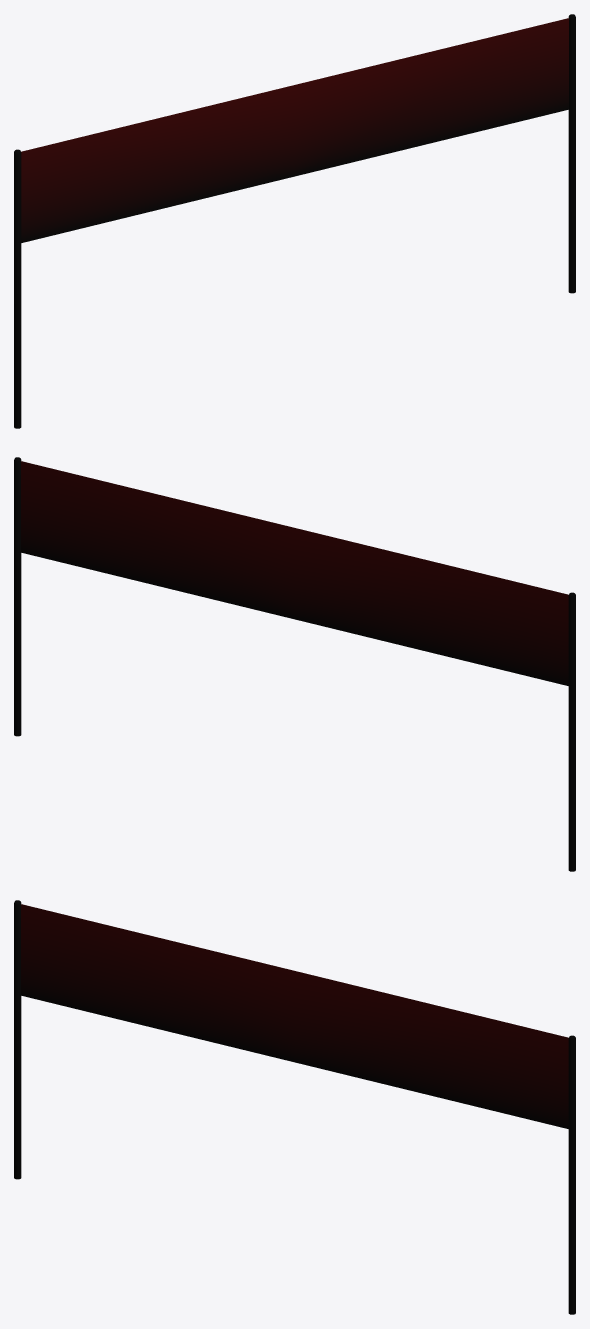
Rendered from Flag_Small.fbx.
The picture shows the model from 3 angles, top to bottom: view 1: azimuth 30°, elevation 25°; view 2: azimuth 150°, elevation 25°; view 3: azimuth 330°, elevation 25°; orthographic projection.
Parts seen in each view (by area): view 1: Cylinder.001; view 2: Cylinder.001; view 3: Cylinder.001.
Part boxes in pixels (box(x1,y1,x2,y2)): Cylinder.001: box(14, 14, 575, 428); Cylinder.001: box(14, 457, 575, 871); Cylinder.001: box(14, 900, 575, 1314).
Size of the model in its own units: 202 by 95.55 by 2.4.
